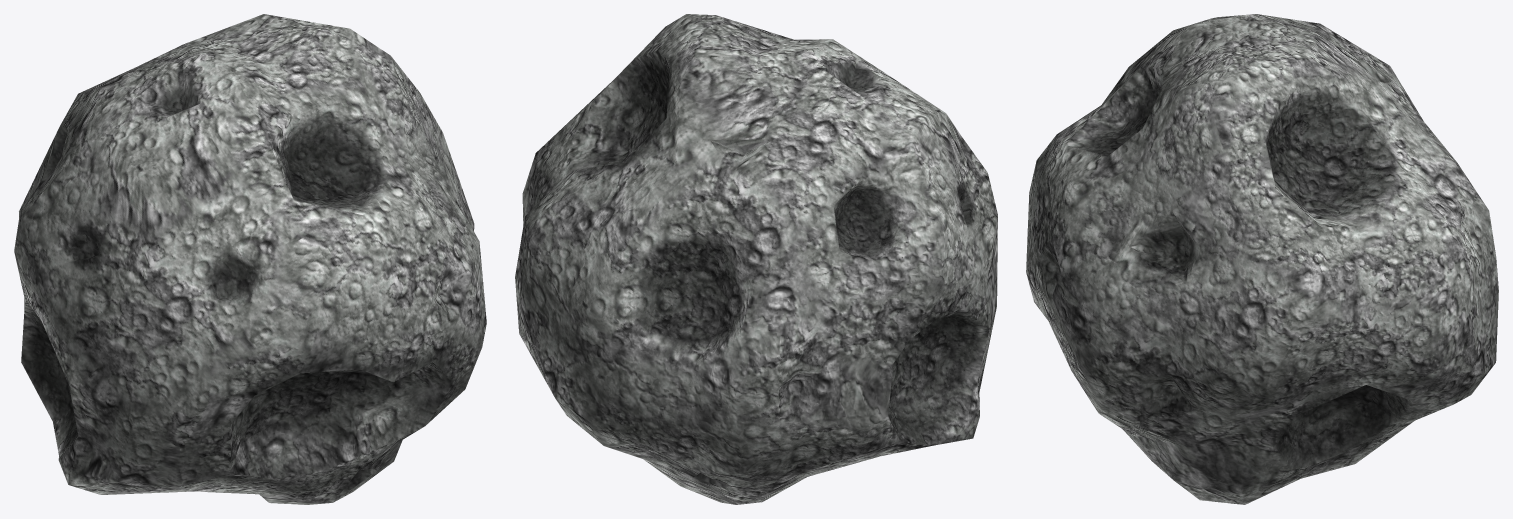
The model's file is asteroid_01.glb.
3 renders of one model, left to right at view 1: azimuth 30°, elevation 25°; view 2: azimuth 150°, elevation 25°; view 3: azimuth 270°, elevation 25°, orthographic. The views are drawn at different scales.
Parts seen in each view (by area): view 1: Asteroid Mob 01; view 2: Asteroid Mob 01; view 3: Asteroid Mob 01.
Part boxes in pixels (x1,y1,x2,y2): Asteroid Mob 01: (14, 14, 486, 504); Asteroid Mob 01: (515, 14, 997, 504); Asteroid Mob 01: (1026, 14, 1498, 504).
Size of the model in its own units: 231 by 236 by 229.
1 material, 1 textured.
